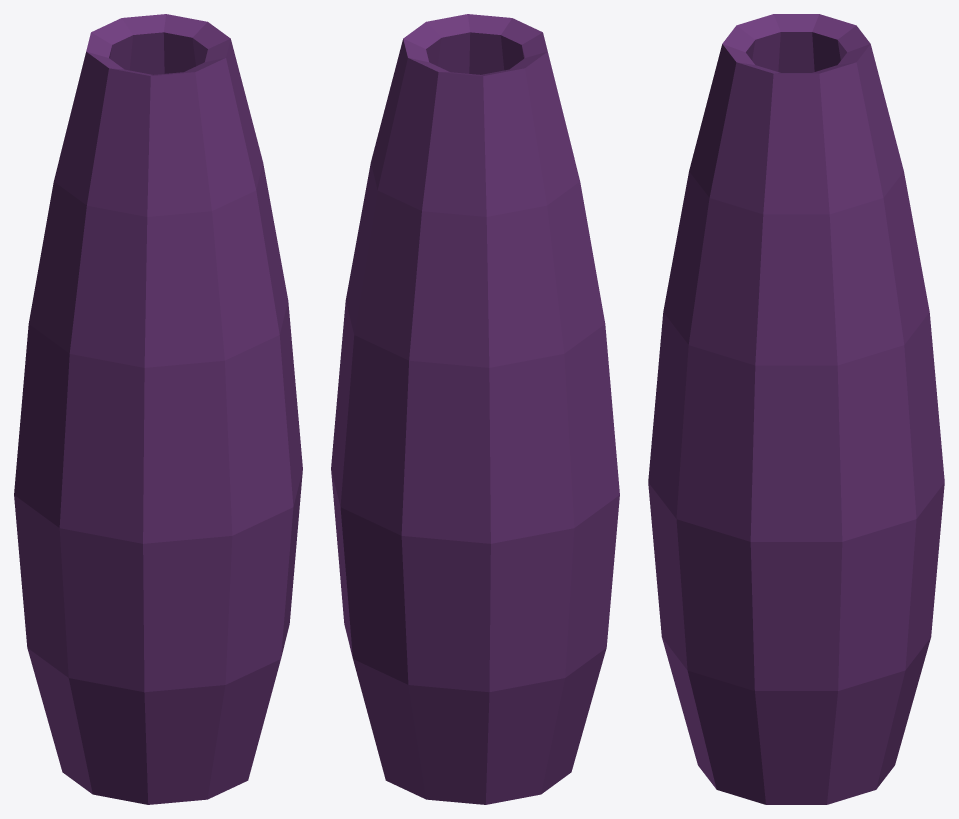
The model's file is vase03.obj.
3 renders of one model, left to right at view 1: azimuth 30°, elevation 25°; view 2: azimuth 150°, elevation 25°; view 3: azimuth 270°, elevation 25°, orthographic.
Visible parts, largest first — view 1: Cylinder; view 2: Cylinder; view 3: Cylinder.
Boxes of the visible parts, <box> form: Cylinder: <box>14,14,302,804</box>; Cylinder: <box>331,14,619,804</box>; Cylinder: <box>648,14,944,804</box>.
Size of the model in its own units: 0.0823 by 0.2323 by 0.0865.
